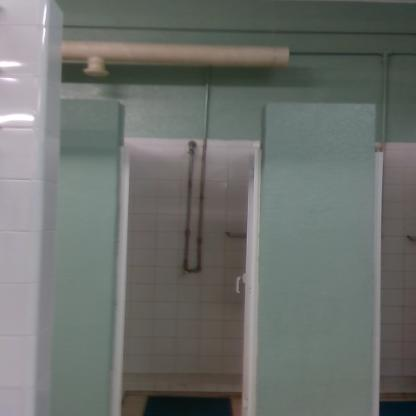open: (98, 116, 284, 412)
